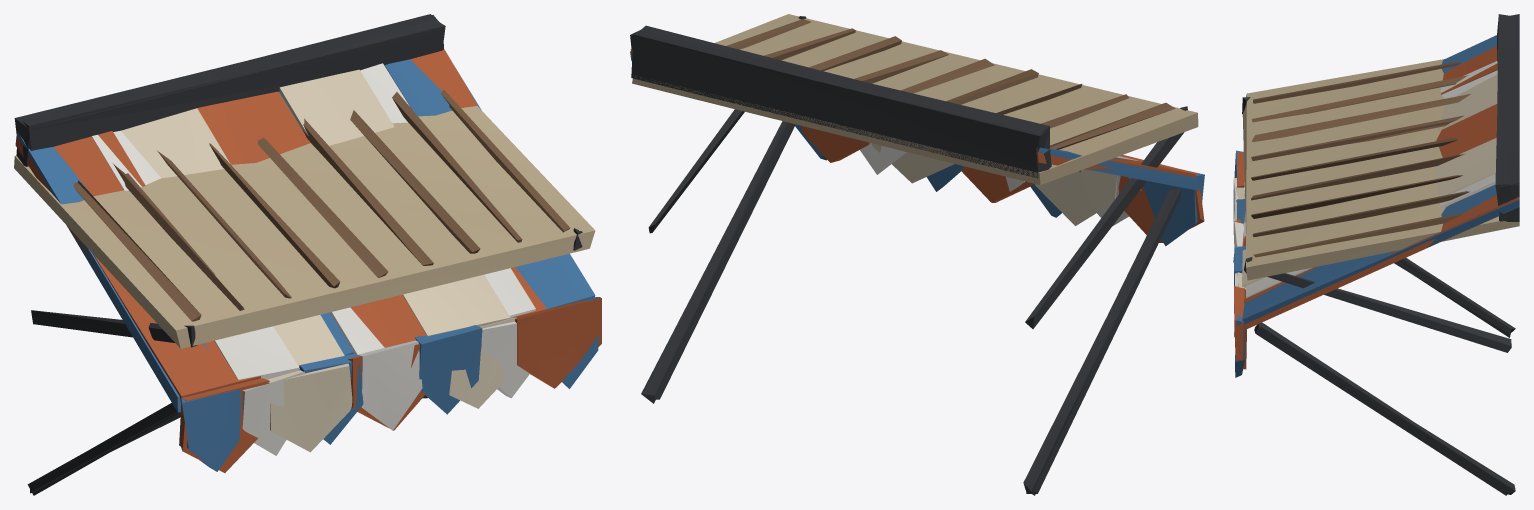
Rendered from awning.glb.
3 views of the same model, side by side, from view 1: azimuth 30°, elevation 25°; view 2: azimuth 150°, elevation 25°; view 3: azimuth 270°, elevation 25° (orthographic). The views are drawn at different scales.
Visible parts, largest first — view 1: awning.v2.mesh, awning.v1.mesh, awning.v0.mesh; view 2: awning.v2.mesh, awning.v1.mesh, awning.v0.mesh; view 3: awning.v2.mesh, awning.v1.mesh, awning.v0.mesh.
Boxes of the visible parts, x1,y1,x2,y2 form: awning.v2.mesh: [14, 22, 595, 348]; awning.v1.mesh: [15, 14, 601, 495]; awning.v0.mesh: [14, 15, 600, 493]; awning.v2.mesh: [631, 14, 1198, 328]; awning.v1.mesh: [630, 32, 1204, 495]; awning.v0.mesh: [630, 26, 1204, 493]; awning.v2.mesh: [1242, 48, 1519, 352]; awning.v1.mesh: [1233, 14, 1519, 495]; awning.v0.mesh: [1233, 14, 1519, 494].
Bounding box in the file's own units: 0.9533 × 0.8205 × 0.6664.
